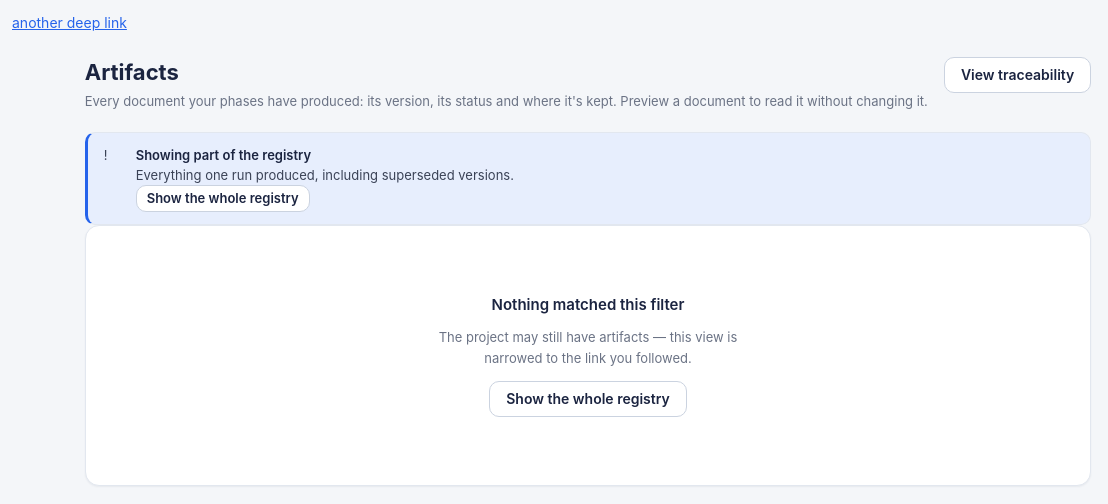
Test: Show the whole registry › also works from the 'nothing matched' panel
The width and height of the screenshot is (1108, 504).
expect the text "Nothing matched this filter" is shown: met, box [492, 294, 684, 315]
Note: Two buttons with this name — the banner's and the empty panel's. Use the panel's.
Click the link "Show the whole registry" below "Nothing matched this filter".
click(588, 399)  # box [489, 381, 687, 417]
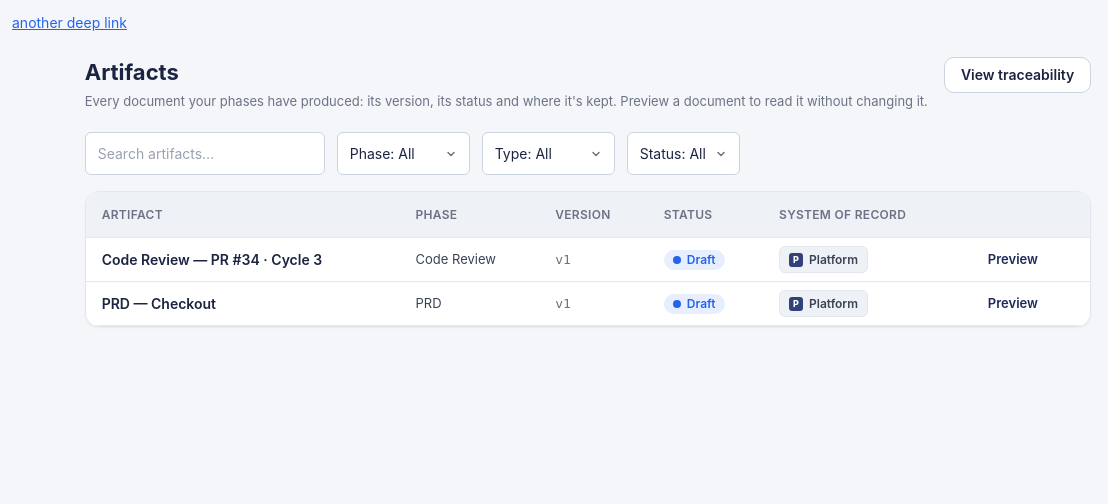
expect the text "PRD — Checkout" is shown: met, box [102, 294, 216, 312]
expect the text "Nothing matched this filter" is gone: met
